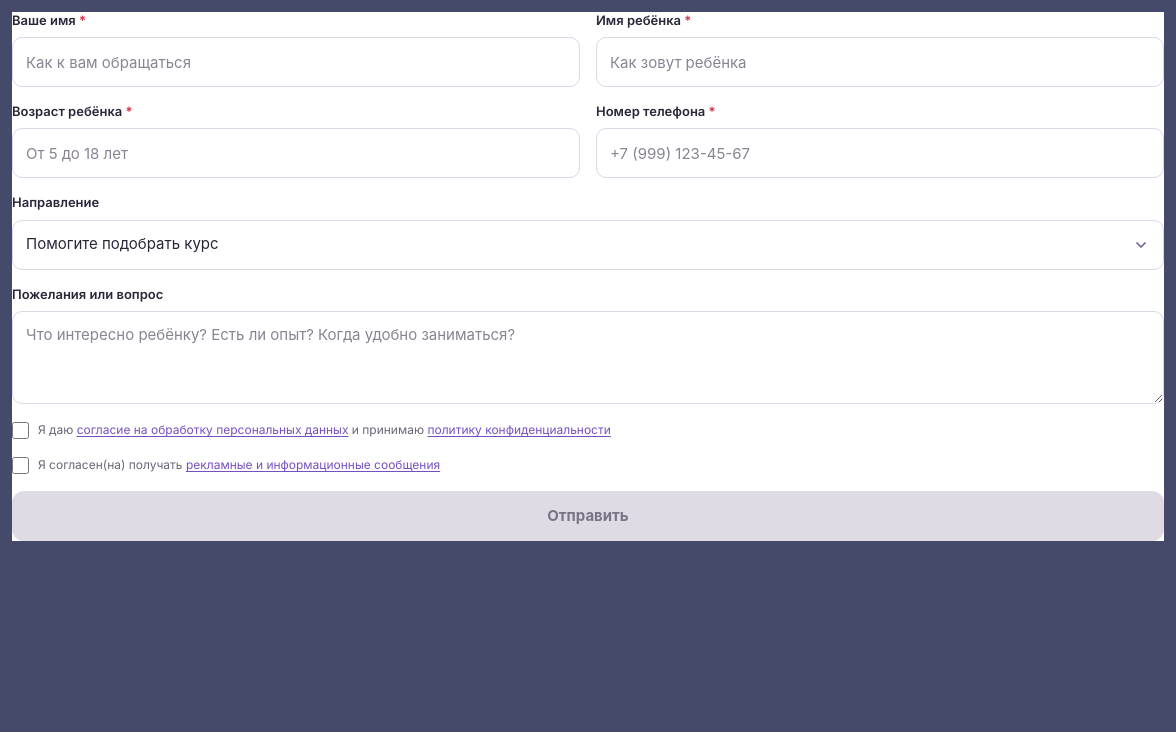
Test case: children lead submission › keeps entered values and offers retry when the backend fails
Type "Тестовый родитель" into the field labelled "Ваше имя *". click: point(296, 62)
box: [12,37,580,87]
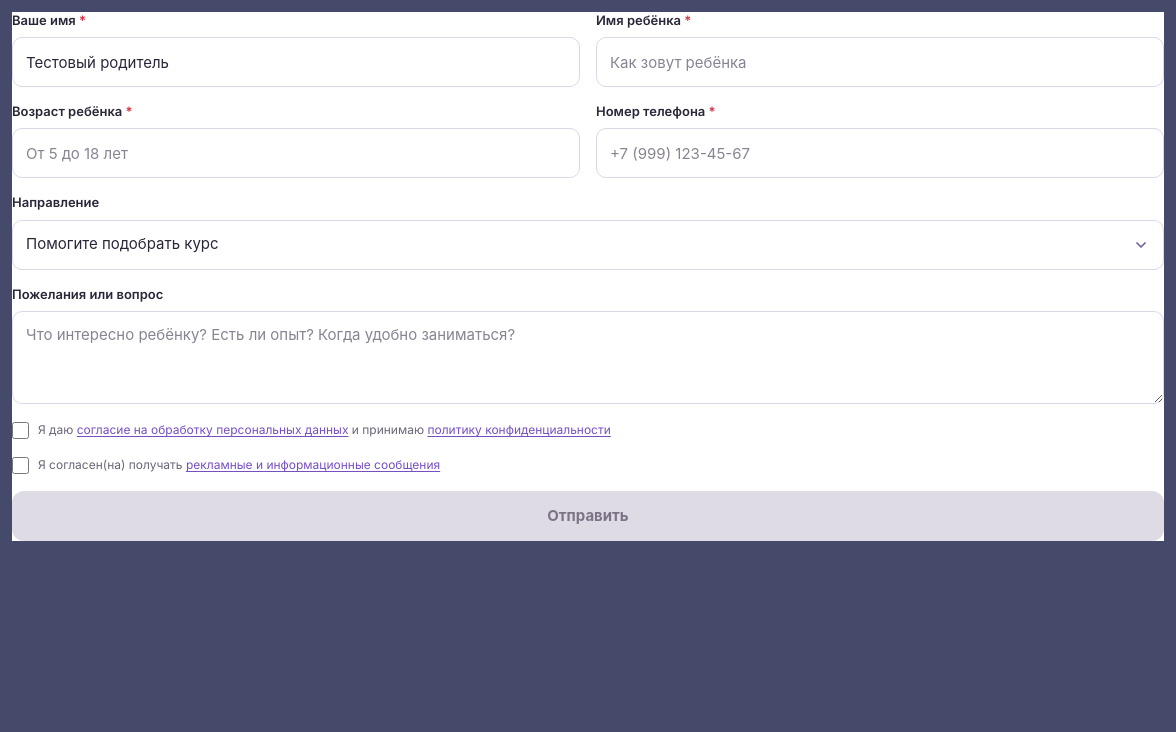
Type "8 (999) 123-45-67" into the field labelled "Номер телефона *". click: point(880, 153)
box: [596,128,1164,178]
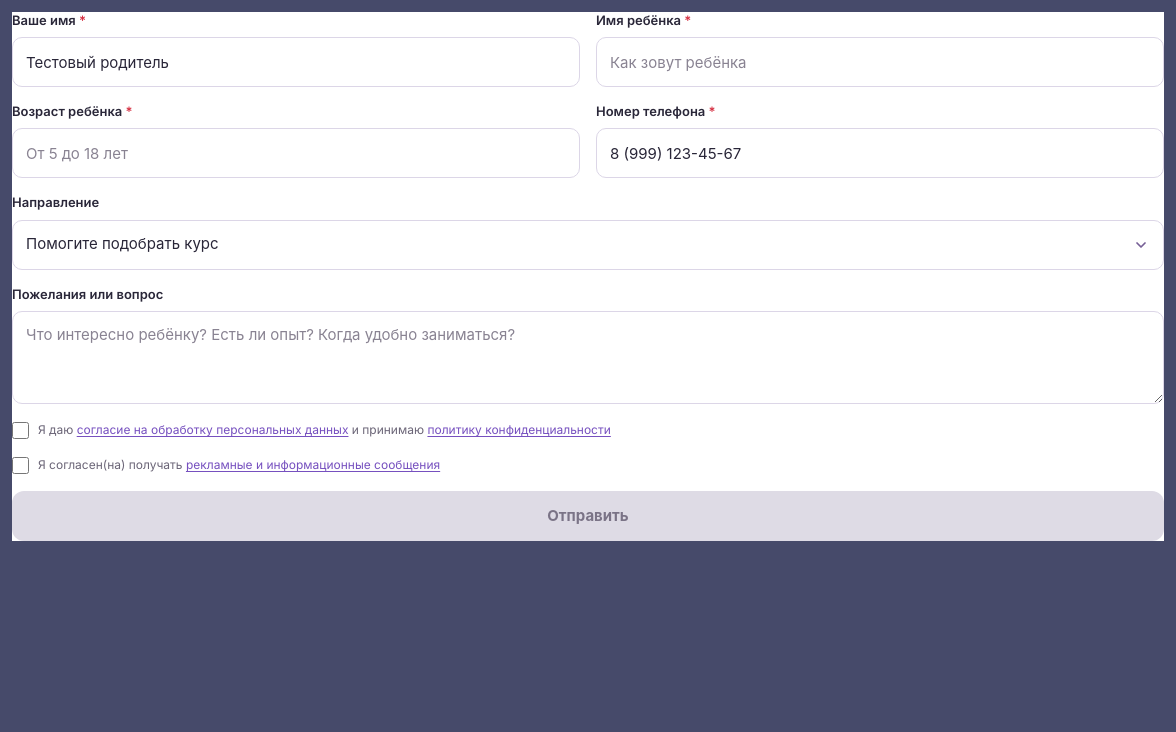
Type "Александр" into the field labelled "Имя ребёнка *". click: point(880, 62)
box: [596,37,1164,87]
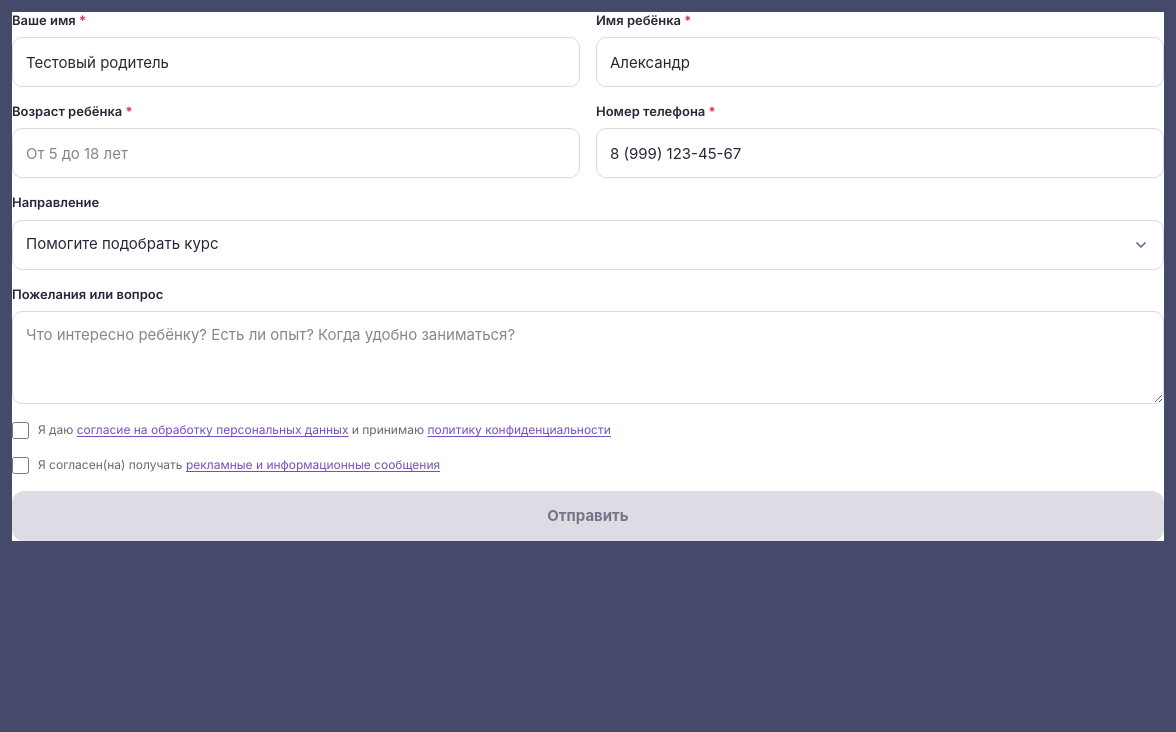
Type "12" into the number field labelled "Возраст ребёнка *". click: point(296, 153)
box: [12,128,580,178]
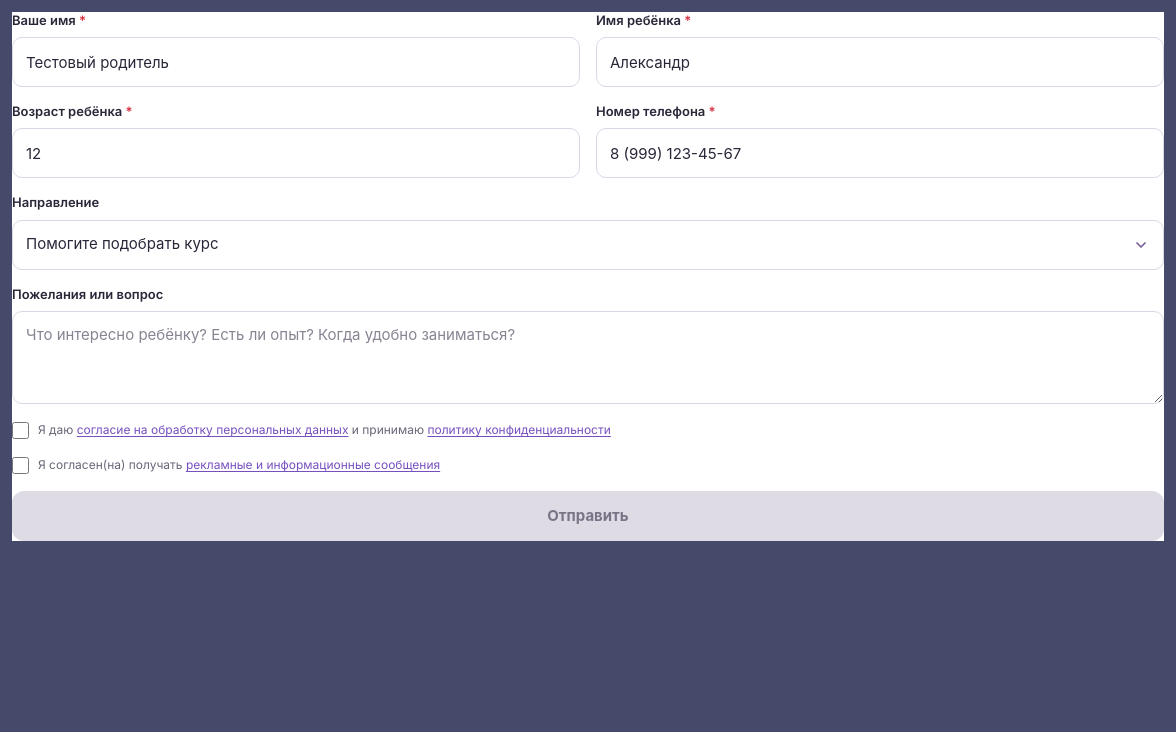
Click the checkbox labelled "обработку персональных данных". click: point(20, 431)
box: [12,422,29,439]
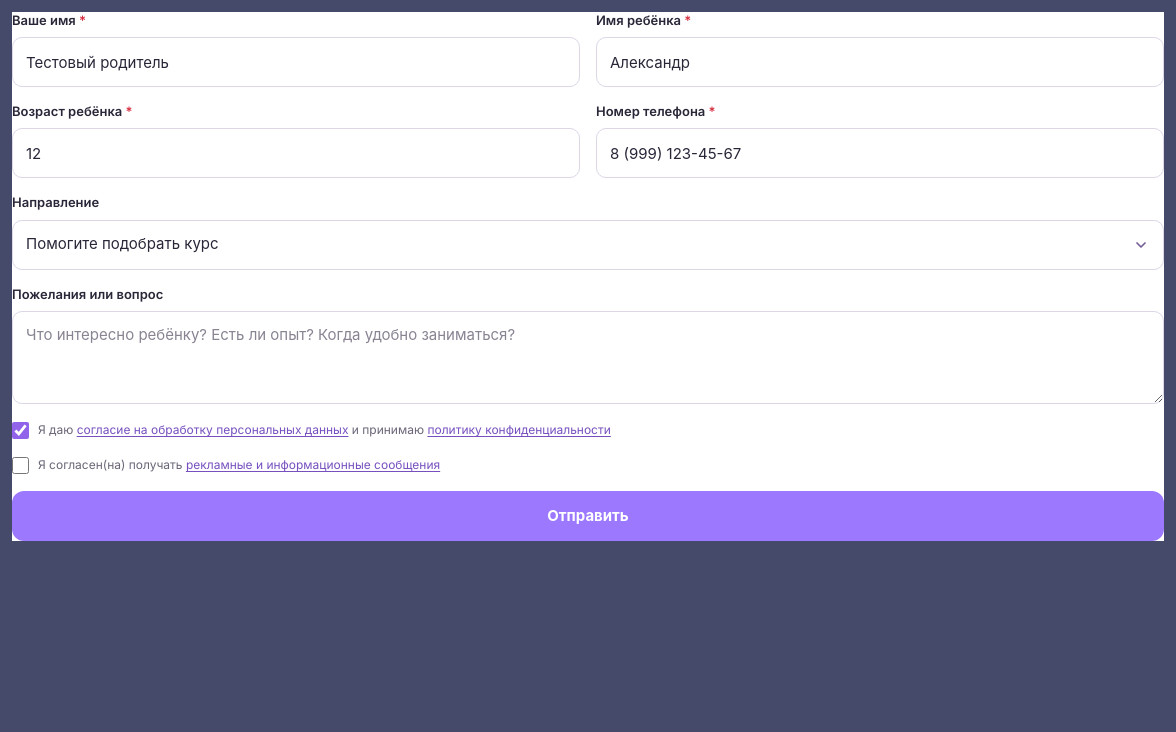
Click the button "Отправить". click: point(588, 516)
box: [12,491,1164,541]
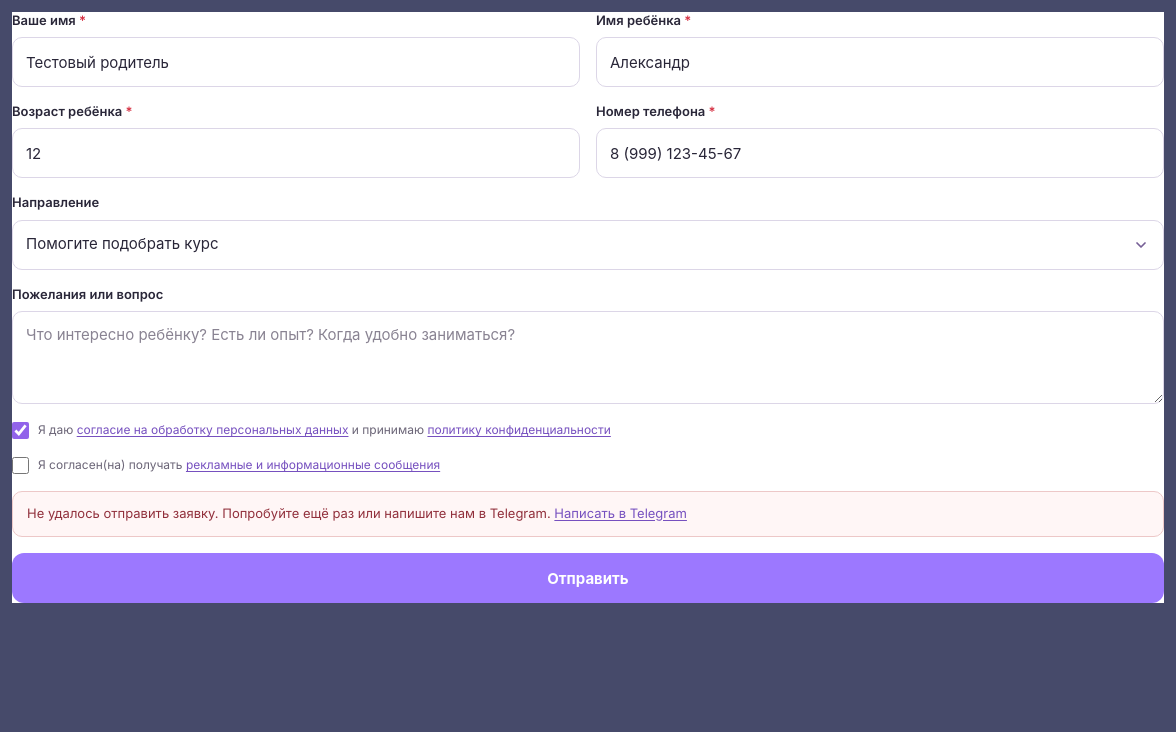
Expected: the button "Отправить" is enabled, [12,553,1164,603]
Expected: the message shows "Не удалось отправить", [27,506,551,522]
